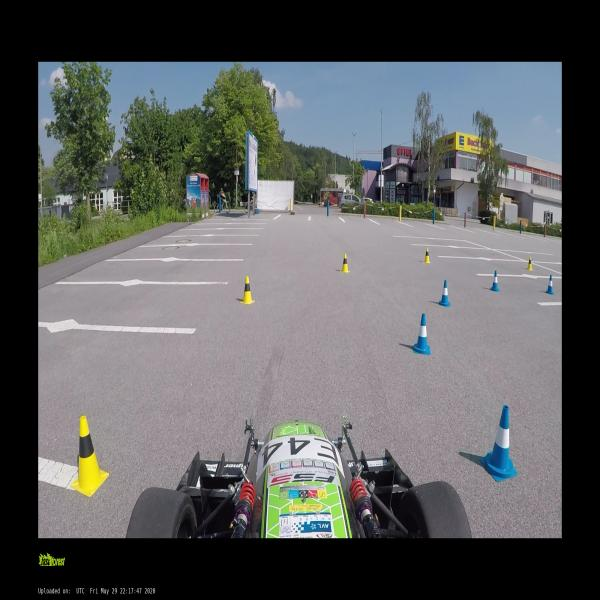blue_cone: (486, 404, 516, 477), (414, 314, 430, 353), (439, 280, 450, 306), (490, 270, 500, 292), (546, 274, 554, 295)
yellow_cone: (72, 415, 106, 497), (240, 276, 255, 305), (341, 254, 349, 272), (424, 247, 431, 263), (526, 256, 532, 270)
